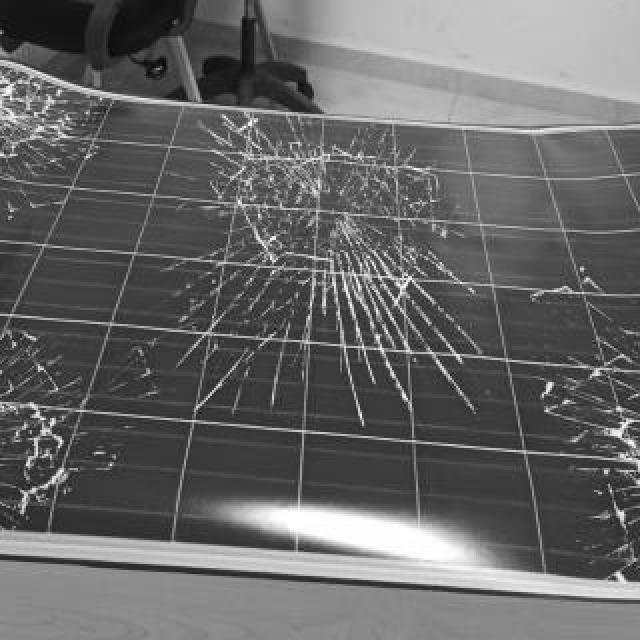Physical-damage: (218, 123, 440, 347), (553, 322, 637, 576), (2, 335, 74, 526), (4, 68, 97, 173)
